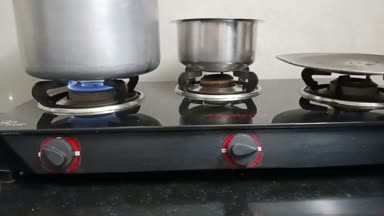flame_gas_off: (179, 61, 278, 173)
flame_gas_on: (21, 66, 155, 174)
